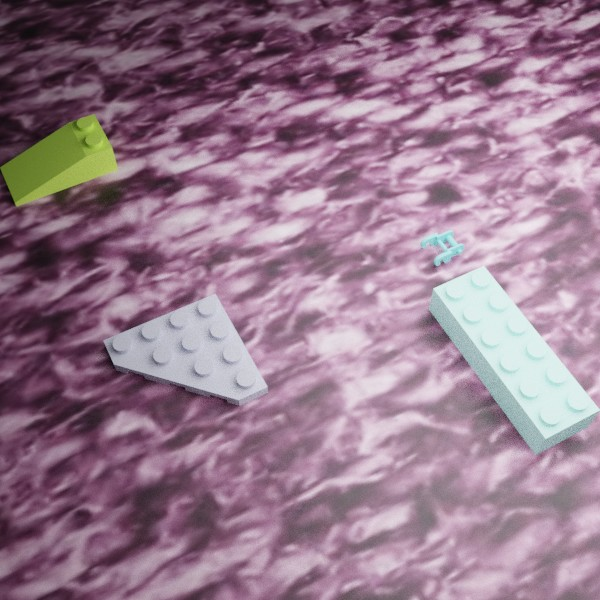lego: (428, 265, 600, 455), (103, 293, 268, 405), (0, 114, 118, 206), (420, 230, 464, 266)
